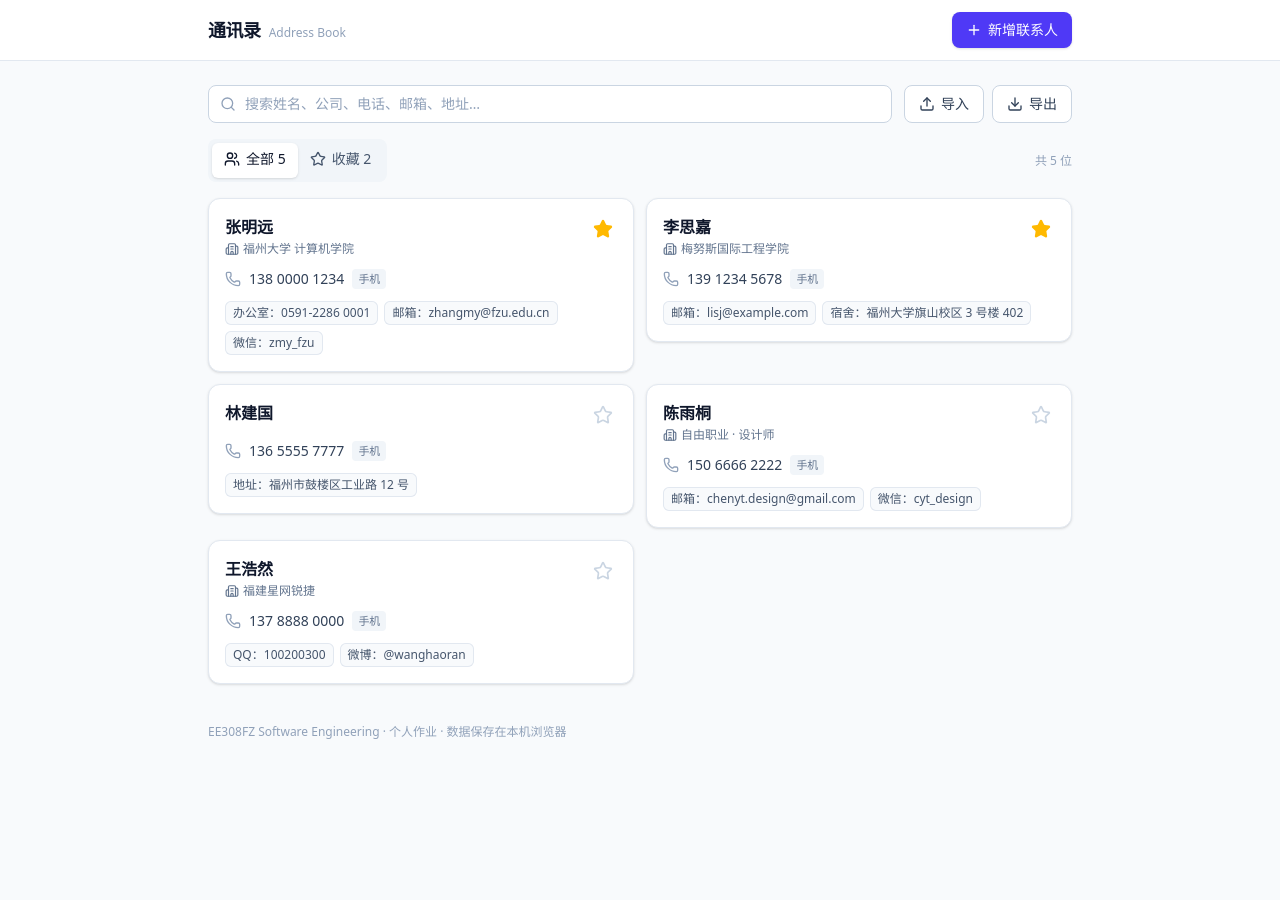
页面冒烟测试 › 搜索实时过滤
In the field named "搜索联系人": coordinates (550, 104) [208,85,892,123], type "张"
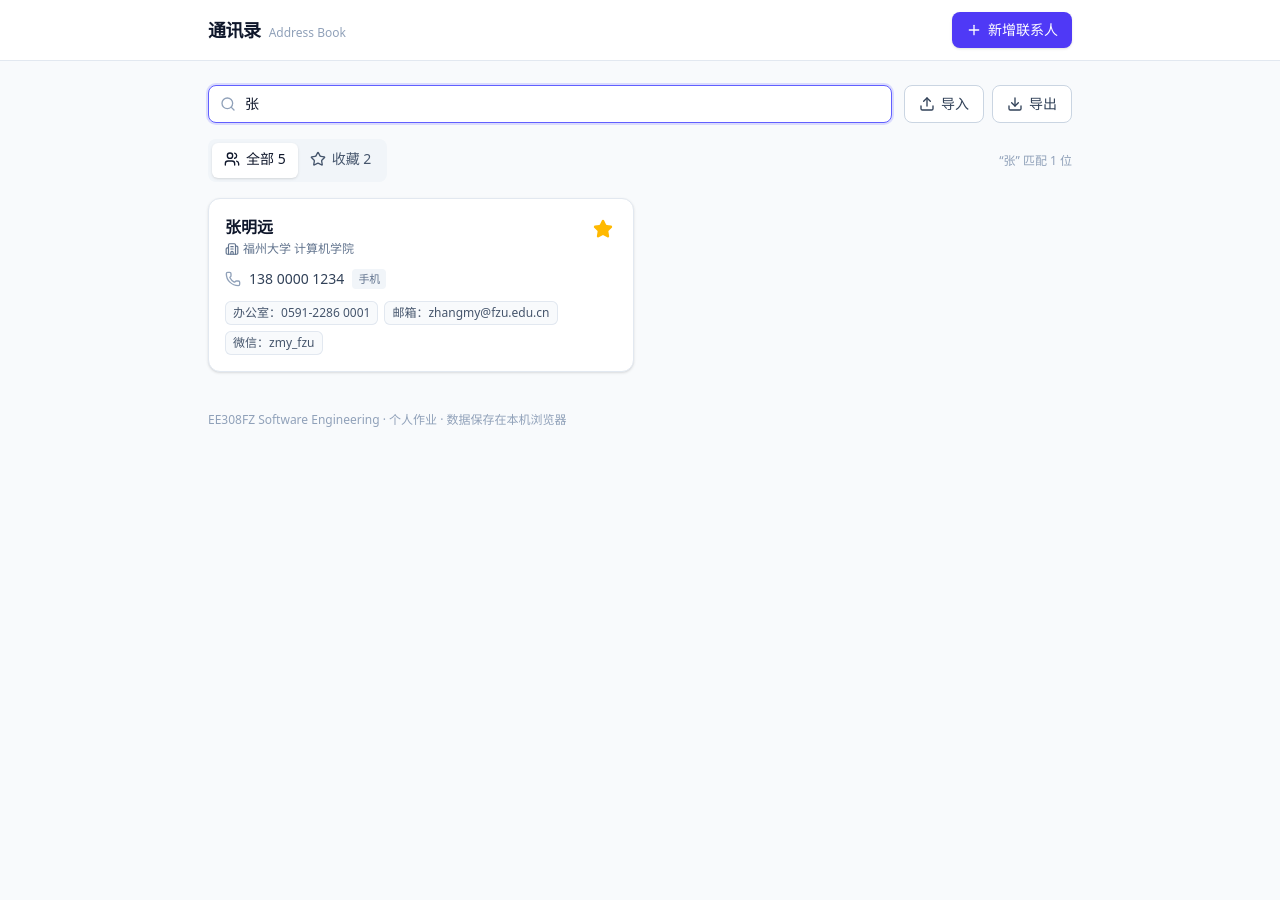
Check: the heading "张明远" is shown, box [225,216,273,238]
Check: the link "李思嘉" is gone
